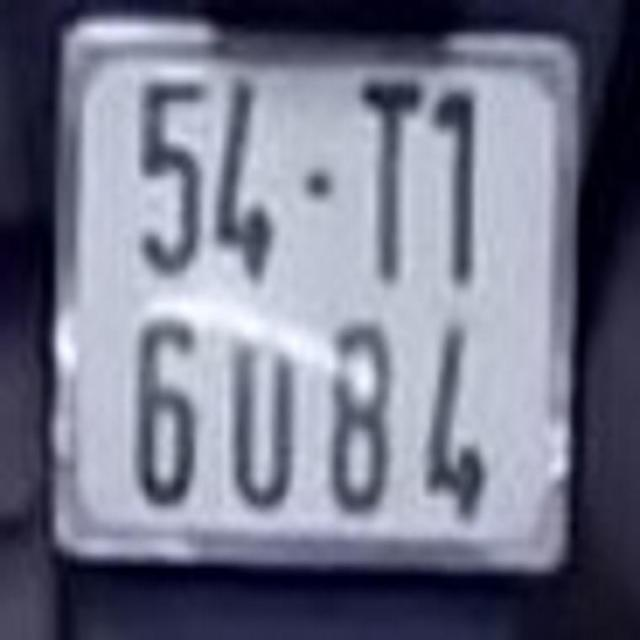0: (222, 304, 300, 510)
1: (431, 82, 488, 288)
4: (211, 78, 281, 284), (424, 313, 490, 529)
5: (132, 71, 206, 276)
6: (132, 306, 203, 512)
8: (322, 313, 394, 511)
T: (351, 73, 426, 289)
